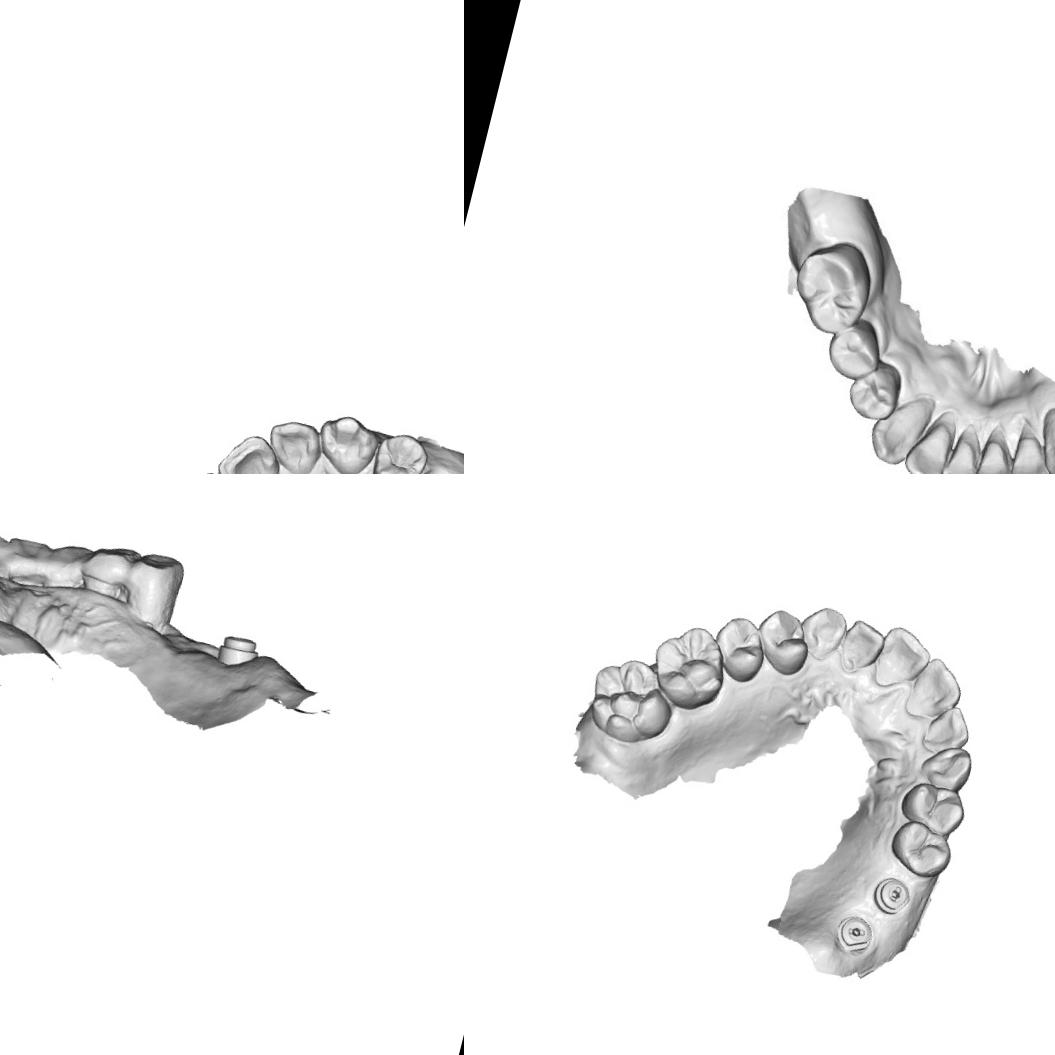canine: (309, 406, 382, 474), (869, 392, 933, 467), (792, 600, 850, 665), (915, 738, 979, 796), (1034, 408, 1055, 474)
implant: (208, 626, 261, 676)
implant_minus: (867, 870, 916, 918), (831, 910, 877, 956)
incisor: (866, 620, 936, 696), (902, 652, 969, 726), (259, 413, 328, 474), (210, 425, 289, 474), (832, 614, 889, 681), (904, 406, 958, 474), (918, 699, 976, 758), (1003, 425, 1055, 474), (939, 425, 986, 474), (973, 428, 1020, 474)
molar: (579, 648, 682, 753), (641, 616, 736, 718), (784, 236, 878, 335)
premolar: (704, 610, 772, 688), (748, 603, 817, 679), (883, 814, 958, 882), (896, 777, 970, 838), (843, 362, 902, 420), (364, 426, 433, 474), (824, 323, 880, 380)
